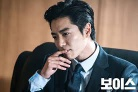male: (43, 6, 116, 79)
